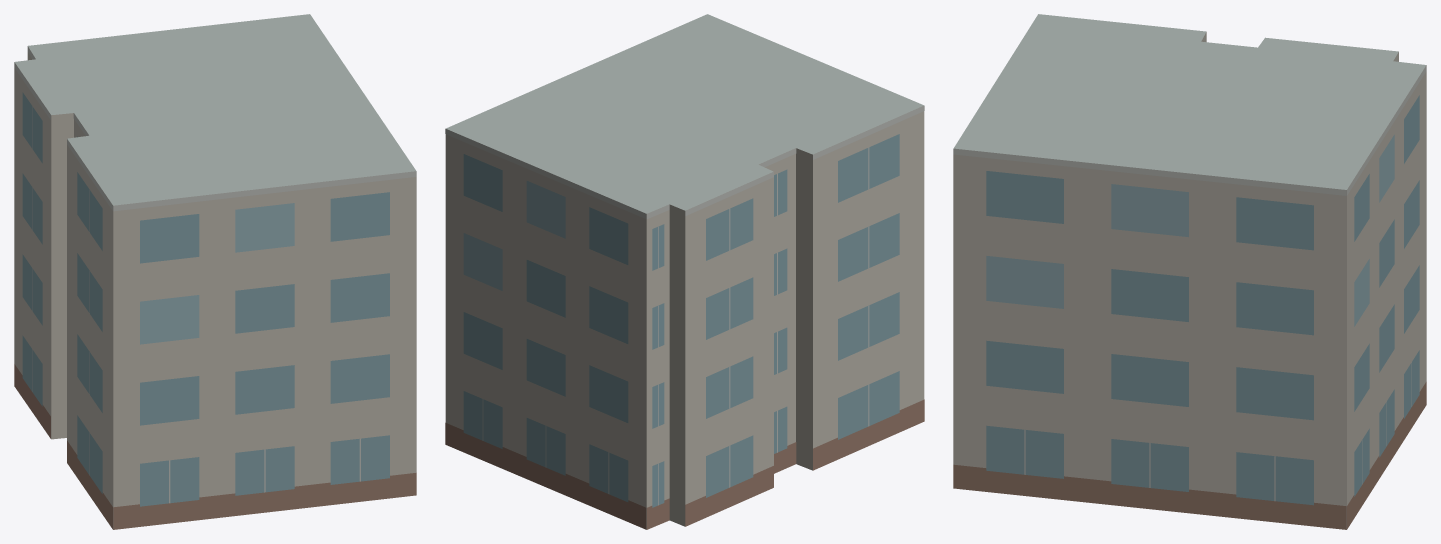
The model's file is survey-upis-32828591.glb.
3 renders of one model, left to right at view 1: azimuth 30°, elevation 25°; view 2: azimuth 150°, elevation 25°; view 3: azimuth 270°, elevation 25°, orthographic. The views are drawn at different scales.
Parts seen in each view (by area): view 1: survey-upis-32828591.tmp; view 2: survey-upis-32828591.tmp; view 3: survey-upis-32828591.tmp.
Part boxes in pixels (left/top/right/bottom): survey-upis-32828591.tmp: left=14, top=14, right=416, bottom=529; survey-upis-32828591.tmp: left=445, top=14, right=924, bottom=529; survey-upis-32828591.tmp: left=953, top=14, right=1426, bottom=529.
Bounding box in the file's own units: 15.45 × 13.9 × 17.55.
